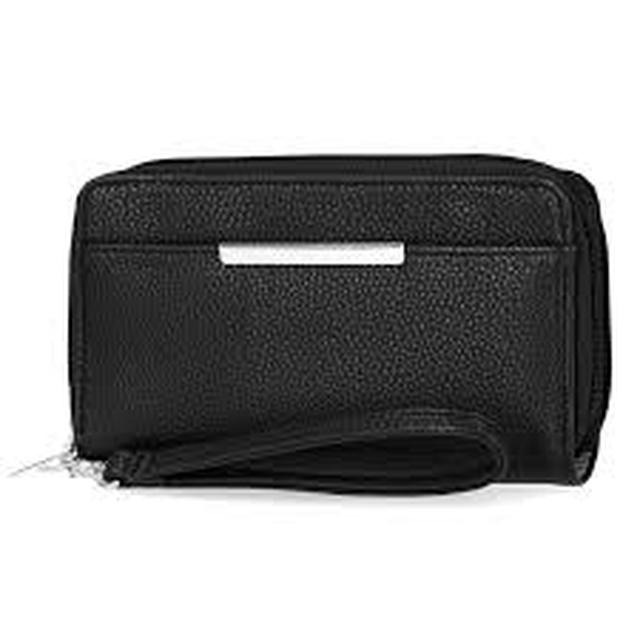wallet: (35, 136, 623, 536)
